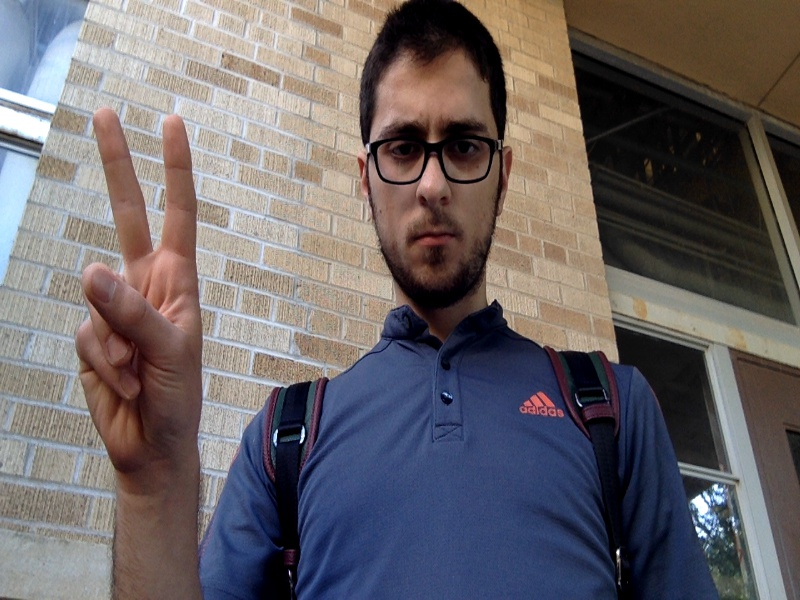2-hand: (71, 109, 201, 475)
